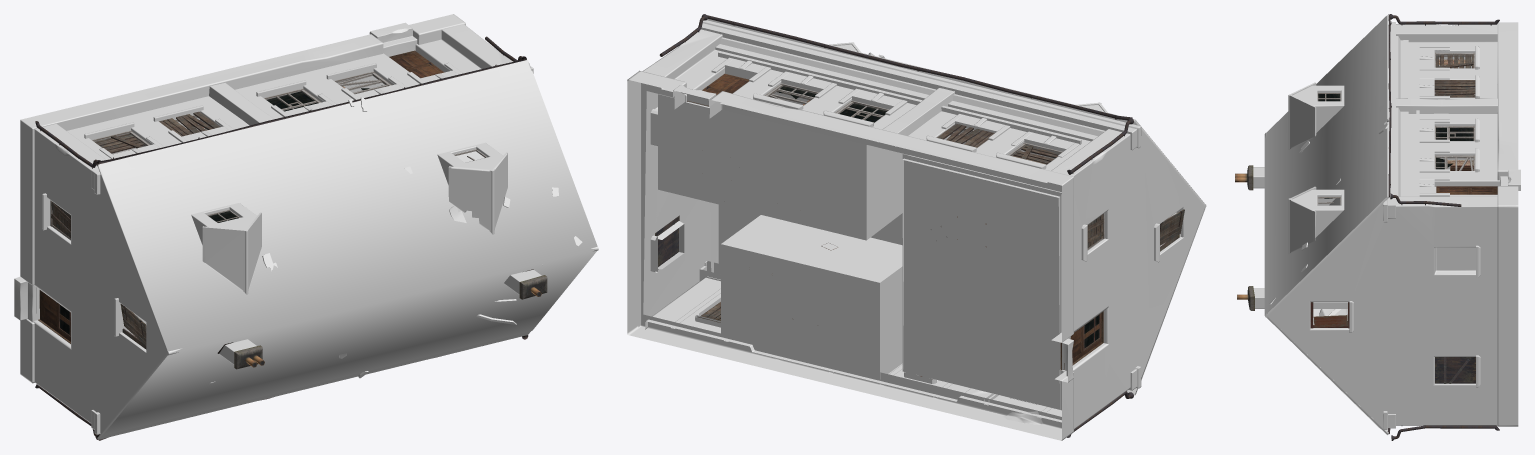
File: hd_bld_EU_060_VHouse_02_Damaged.fbx
3 views of the same model, side by side, from view 1: azimuth 30°, elevation 25°; view 2: azimuth 150°, elevation 25°; view 3: azimuth 270°, elevation 25° (orthographic). The views are drawn at different scales.
Visible parts, largest first — view 1: set_0_group_1, set_0_group_7, set_0_group_3, set_0_group_6, set_0_group_0, set_0_group_5; view 2: set_0_group_4, set_0_group_7, set_0_group_3, set_0_group_5, set_0_group_0, set_0_group_6; view 3: set_0_group_7, set_0_group_1, set_0_group_3, set_0_group_5, set_0_group_0, set_0_group_6, set_0_group_2.
Part boxes in pixels (bbox=[...]): set_0_group_1: bbox=[102, 71, 597, 435]; set_0_group_7: bbox=[33, 24, 541, 433]; set_0_group_3: bbox=[14, 14, 465, 383]; set_0_group_6: bbox=[97, 62, 582, 439]; set_0_group_0: bbox=[35, 36, 547, 440]; set_0_group_5: bbox=[91, 60, 598, 439]; set_0_group_4: bbox=[658, 94, 1064, 410]; set_0_group_7: bbox=[638, 29, 1204, 429]; set_0_group_3: bbox=[627, 70, 1159, 440]; set_0_group_5: bbox=[671, 15, 1206, 418]; set_0_group_0: bbox=[655, 14, 1184, 437]; set_0_group_6: bbox=[707, 19, 1205, 394]; set_0_group_7: bbox=[1253, 24, 1499, 428]; set_0_group_1: bbox=[1264, 22, 1379, 428]; set_0_group_3: bbox=[1349, 22, 1520, 426]; set_0_group_5: bbox=[1264, 15, 1449, 429]; set_0_group_0: bbox=[1235, 14, 1499, 440]; set_0_group_6: bbox=[1267, 17, 1389, 434]; set_0_group_2: bbox=[1313, 302, 1347, 320].
Size of the model in its own units: 1694 by 1045 by 1097.
